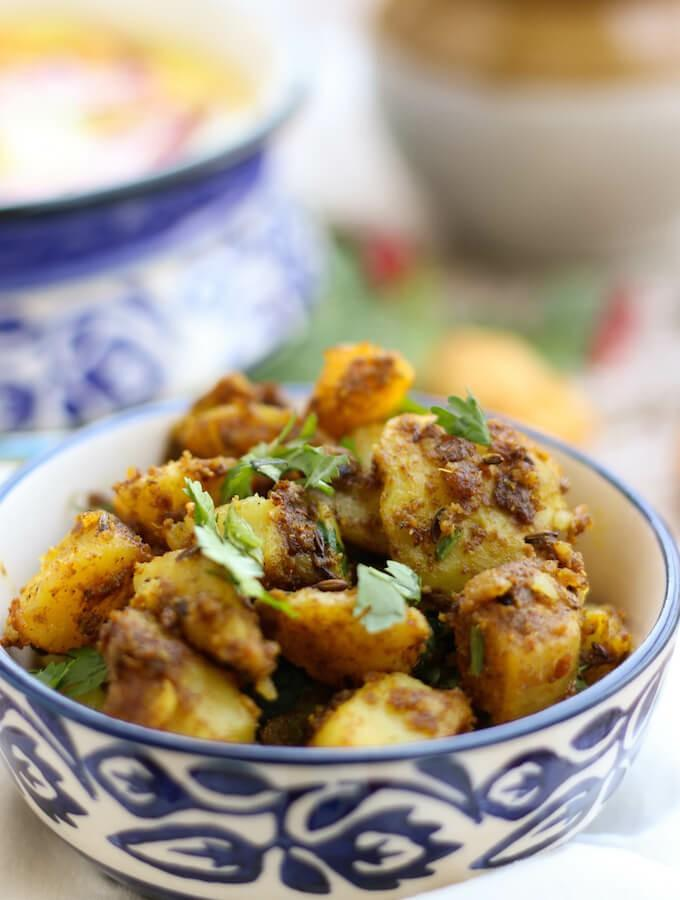AlooMasala: (0, 344, 634, 749)
